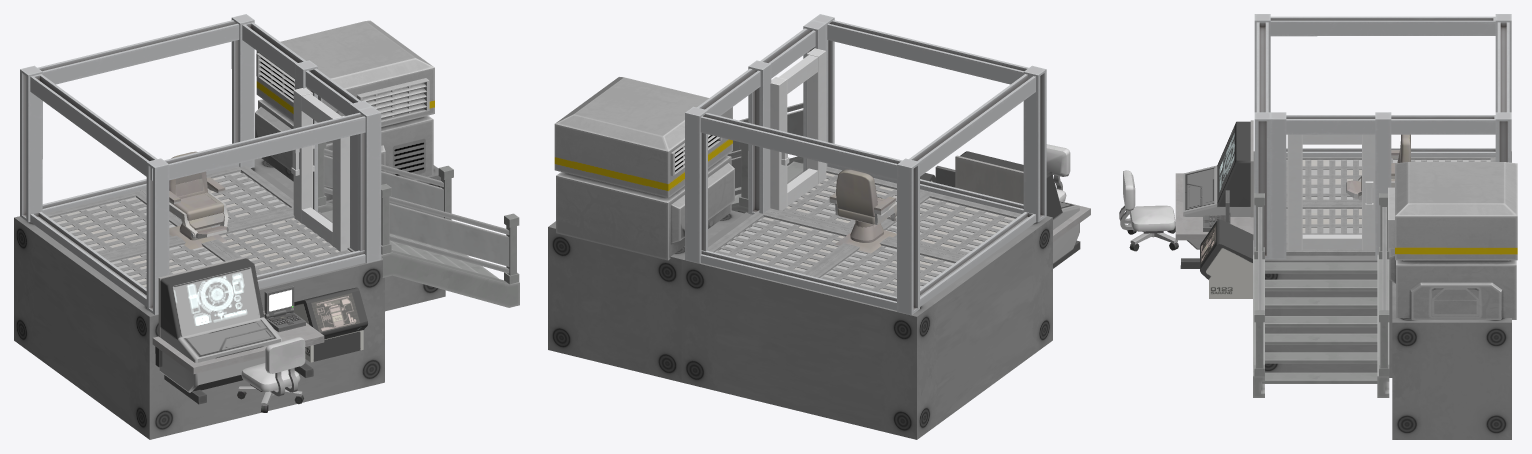
Rendered from Pfb_ObservationDeck_Temp__16.fbx.
3 renders of one model, left to right at view 1: azimuth 30°, elevation 25°; view 2: azimuth 150°, elevation 25°; view 3: azimuth 270°, elevation 25°, orthographic. The views are drawn at different scales.
Visible parts, largest first — view 1: Mat_SteelFrame_01, MAT_ScalableMesh_01, Mat_Ventilation_Soda, Mat_Stairs_Soda, Mat_Network_01_2, MAT_Soda_Instruments_Grey 6, Mat_TS_Metall 2, Mat_Tile_Color_01 7, MAT_Soda_Instruments_Grey 7, Mat_Tile_Color_07 2, Mat_Chair_01, Mat_Table_01 (+2 smaller); view 2: MAT_ScalableMesh_01, Mat_SteelFrame_01, Mat_Ventilation_Soda, Mat_Network_01_2, Mat_TS_Metall 2, Mat_Tile_Color_01 7, Mat_Tile_Color_07 2, Mat_CementMold_1, Mat_Stairs_Soda, MAT_Soda_Instruments_Grey 6, Mat_Chair_01, Mat_Table_01; view 3: MAT_ScalableMesh_01, Mat_Ventilation_Soda, Mat_SteelFrame_01, Mat_Stairs_Soda, Mat_TS_Metall 2, Mat_Network_01_2, MAT_Soda_Instruments_Grey 6, MAT_Soda_Instruments_Grey 7, Mat_Chair_01, Mat_Tile_Color_01 7, Mat_Table_01, Mat_Tile_Color_07 2 (+2 smaller).
Part boxes in pixels (x1=…): Mat_SteelFrame_01: x1=20, y1=14, x2=381, y2=314; MAT_ScalableMesh_01: x1=14, y1=158, x2=445, y2=439; Mat_Ventilation_Soda: x1=255, y1=20, x2=434, y2=200; Mat_Stairs_Soda: x1=318, y1=142, x2=519, y2=307; Mat_Network_01_2: x1=37, y1=165, x2=354, y2=296; MAT_Soda_Instruments_Grey 6: x1=159, y1=258, x2=282, y2=392; Mat_TS_Metall 2: x1=293, y1=88, x2=349, y2=251; Mat_Tile_Color_01 7: x1=50, y1=172, x2=339, y2=286; MAT_Soda_Instruments_Grey 7: x1=293, y1=287, x2=367, y2=362; Mat_Tile_Color_07 2: x1=169, y1=151, x2=226, y2=249; Mat_Chair_01: x1=237, y1=337, x2=305, y2=412; Mat_Table_01: x1=152, y1=310, x2=324, y2=404; MAT_ScalableMesh_01: x1=548, y1=171, x2=1052, y2=439; Mat_SteelFrame_01: x1=685, y1=14, x2=1046, y2=315; Mat_Ventilation_Soda: x1=554, y1=77, x2=734, y2=260; Mat_Network_01_2: x1=708, y1=166, x2=1028, y2=296; Mat_TS_Metall 2: x1=770, y1=48, x2=826, y2=210; Mat_Tile_Color_01 7: x1=719, y1=173, x2=1014, y2=293; Mat_Tile_Color_07 2: x1=829, y1=169, x2=896, y2=253; Mat_CementMold_1: x1=955, y1=155, x2=1023, y2=204; Mat_Stairs_Soda: x1=727, y1=102, x2=803, y2=213; MAT_Soda_Instruments_Grey 6: x1=960, y1=151, x2=1079, y2=263; Mat_Chair_01: x1=1046, y1=144, x2=1070, y2=201; Mat_Table_01: x1=1053, y1=201, x2=1090, y2=268; MAT_ScalableMesh_01: x1=1253, y1=151, x2=1511, y2=439; Mat_Ventilation_Soda: x1=1388, y1=162, x2=1517, y2=319; Mat_SteelFrame_01: x1=1254, y1=14, x2=1511, y2=259; Mat_Stairs_Soda: x1=1253, y1=193, x2=1389, y2=397; Mat_TS_Metall 2: x1=1287, y1=134, x2=1375, y2=250; Mat_Network_01_2: x1=1286, y1=157, x2=1495, y2=255; MAT_Soda_Instruments_Grey 6: x1=1183, y1=121, x2=1250, y2=249; MAT_Soda_Instruments_Grey 7: x1=1200, y1=219, x2=1252, y2=298; Mat_Chair_01: x1=1119, y1=170, x2=1178, y2=251; Mat_Tile_Color_01 7: x1=1302, y1=160, x2=1490, y2=233; Mat_Table_01: x1=1175, y1=173, x2=1253, y2=268; Mat_Tile_Color_07 2: x1=1347, y1=134, x2=1410, y2=194.
Bounding box in the file's own units: 6.29 × 4.39 × 6.16.
16 materials, 16 textured.
